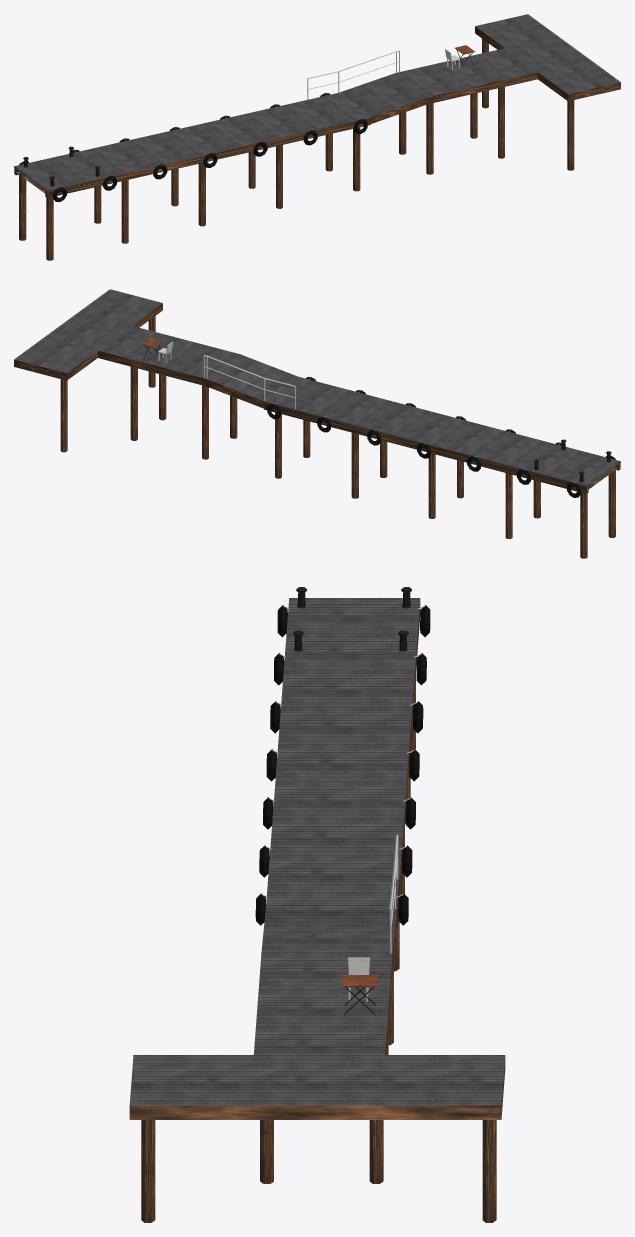
File: SM_Morin_PontileImbarco_v2_LOD1.fbx
The picture shows the model from 3 angles, top to bottom: view 1: azimuth 30°, elevation 25°; view 2: azimuth 150°, elevation 25°; view 3: azimuth 270°, elevation 25°; orthographic projection. The views are drawn at different scales.
Visible parts, largest first — view 1: SM_Morin_PontileImbarco_v2_LOD1; view 2: SM_Morin_PontileImbarco_v2_LOD1; view 3: SM_Morin_PontileImbarco_v2_LOD1.
Boxes of the visible parts, bbox=[...] form: SM_Morin_PontileImbarco_v2_LOD1: bbox=[14, 14, 620, 260]; SM_Morin_PontileImbarco_v2_LOD1: bbox=[14, 289, 620, 558]; SM_Morin_PontileImbarco_v2_LOD1: bbox=[129, 587, 505, 1222].
Size of the model in its own units: 2821 by 859 by 514.
2 materials, 2 textured.
